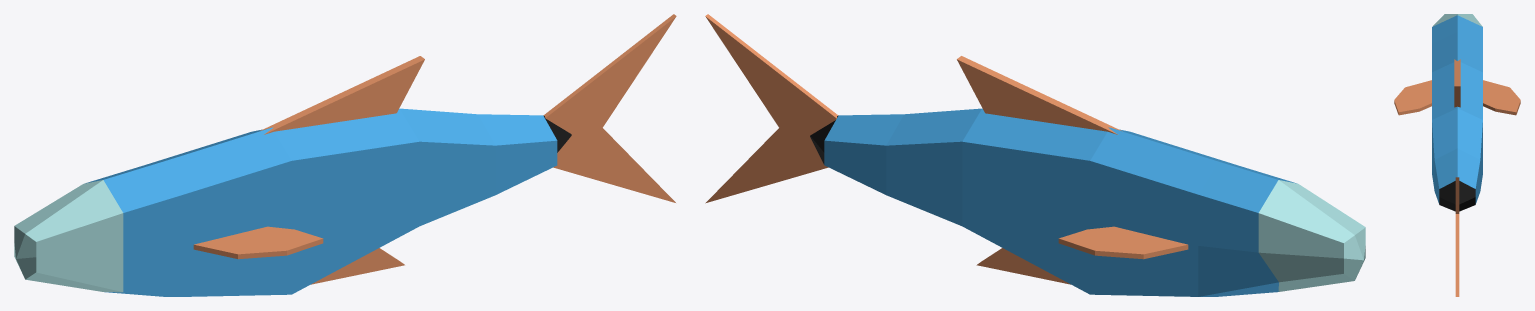
The model's file is WeaponFish.fbx.
3 views of the same model, side by side, from view 1: azimuth 30°, elevation 25°; view 2: azimuth 150°, elevation 25°; view 3: azimuth 270°, elevation 25° (orthographic). The views are drawn at different scales.
Parts seen in each view (by area): view 1: Fish; view 2: Fish; view 3: Fish.
Part boxes in pixels (x1,y1,x2,y2): Fish: (14, 14, 676, 296); Fish: (705, 14, 1365, 296); Fish: (1394, 14, 1520, 296).
Size of the model in its own units: 51.59 by 15.46 by 13.45.
